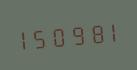eight: (86, 18, 102, 47)
five: (34, 22, 50, 51)
nine: (69, 20, 85, 48)
one: (17, 24, 33, 52), (103, 17, 119, 45)
zero: (52, 21, 68, 49)
